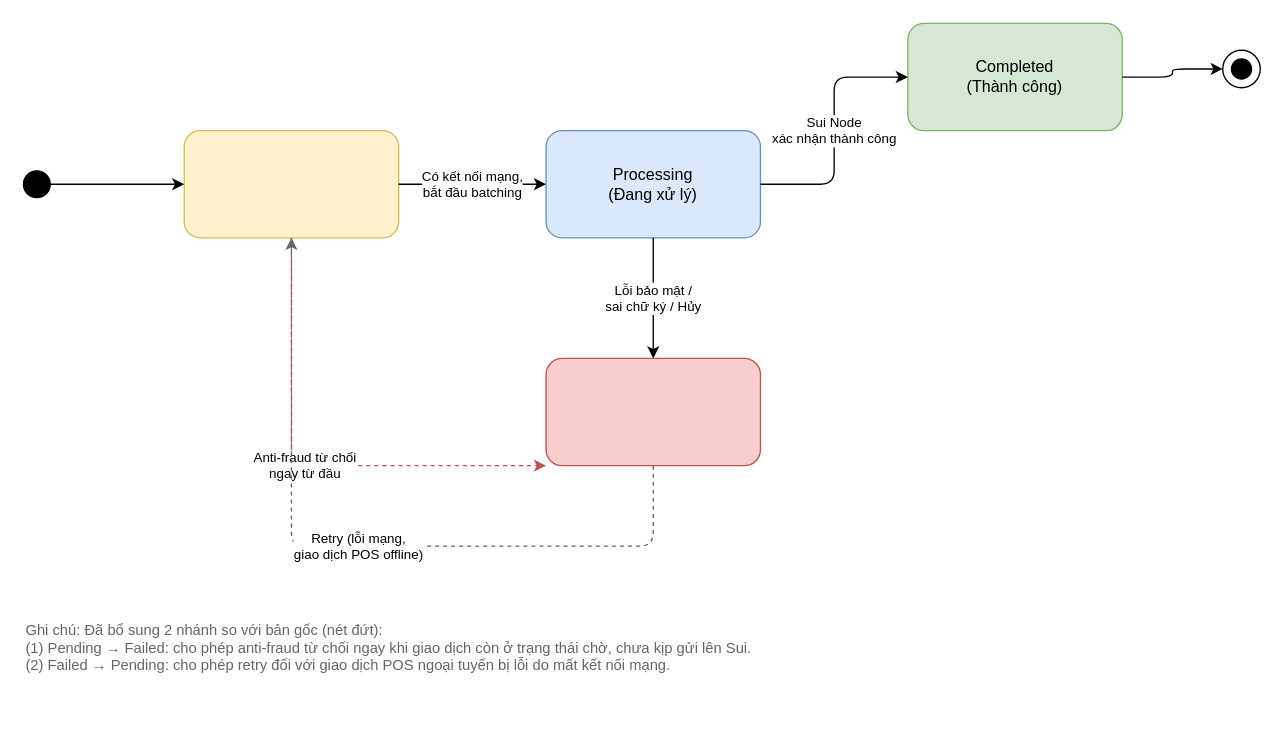
The diagram is 1284 pixels wide and 730 high, and some of its shapes have lost their labels. The shapes that lost their labels are listed below. From the top down, each one's centre as x and y in pixels, then its label:
At pixel 291 183: "Pending (Đang chờ)".
At pixel 652 411: "Failed (Thất bại)".
